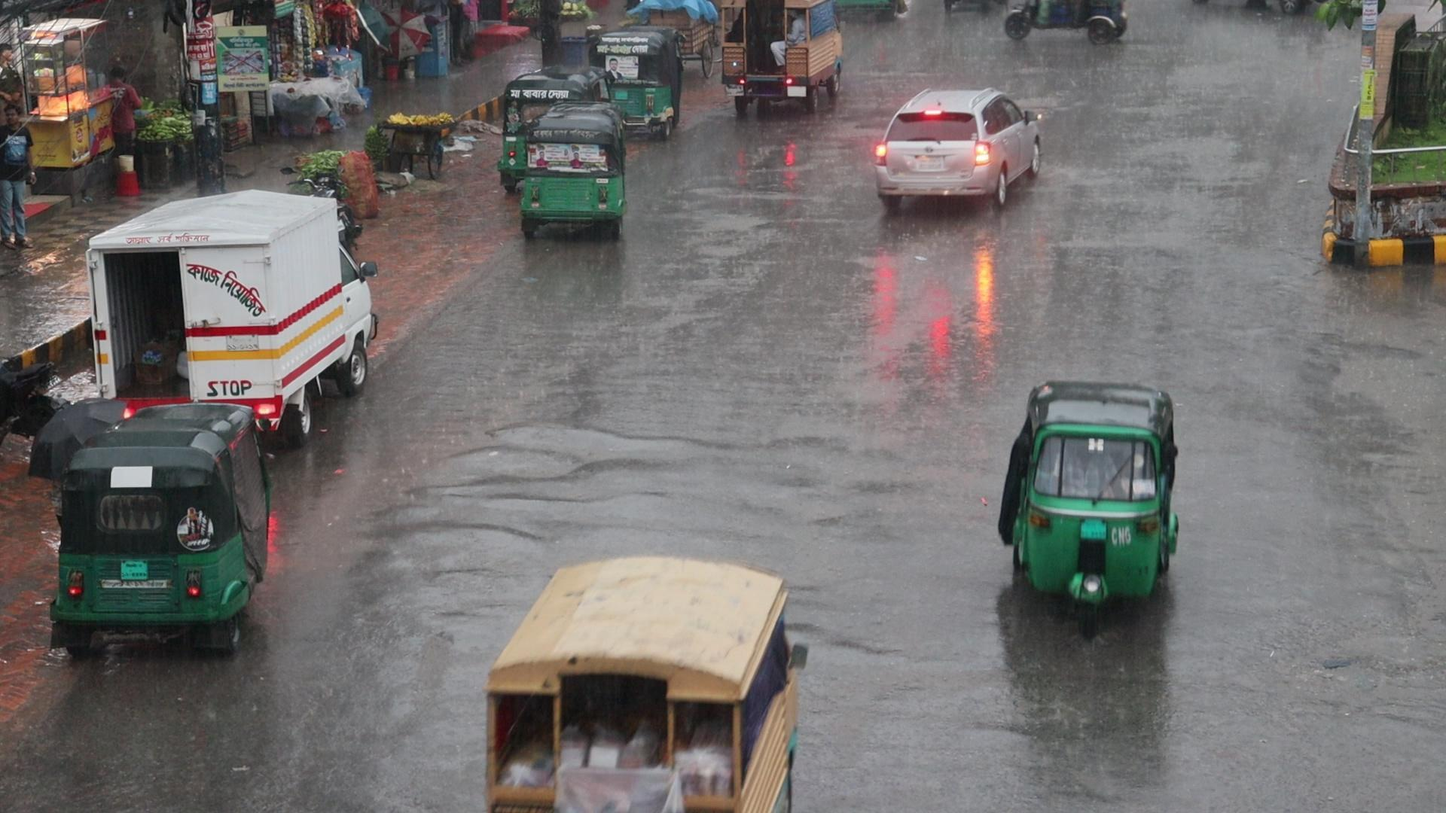Car: (877, 89, 1049, 224)
